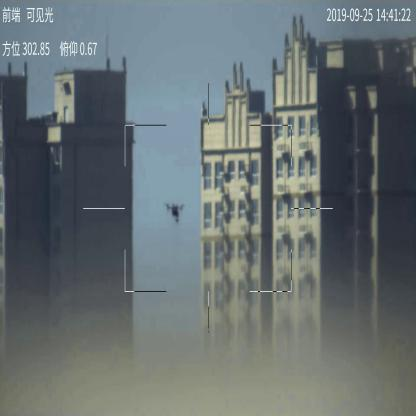uav: (164, 199, 185, 222)
